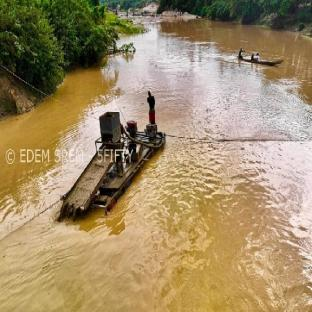Person: (144, 86, 159, 120)
ProcessingEquipment: (62, 112, 165, 213), (64, 111, 124, 208), (143, 121, 162, 141), (125, 118, 141, 140)
